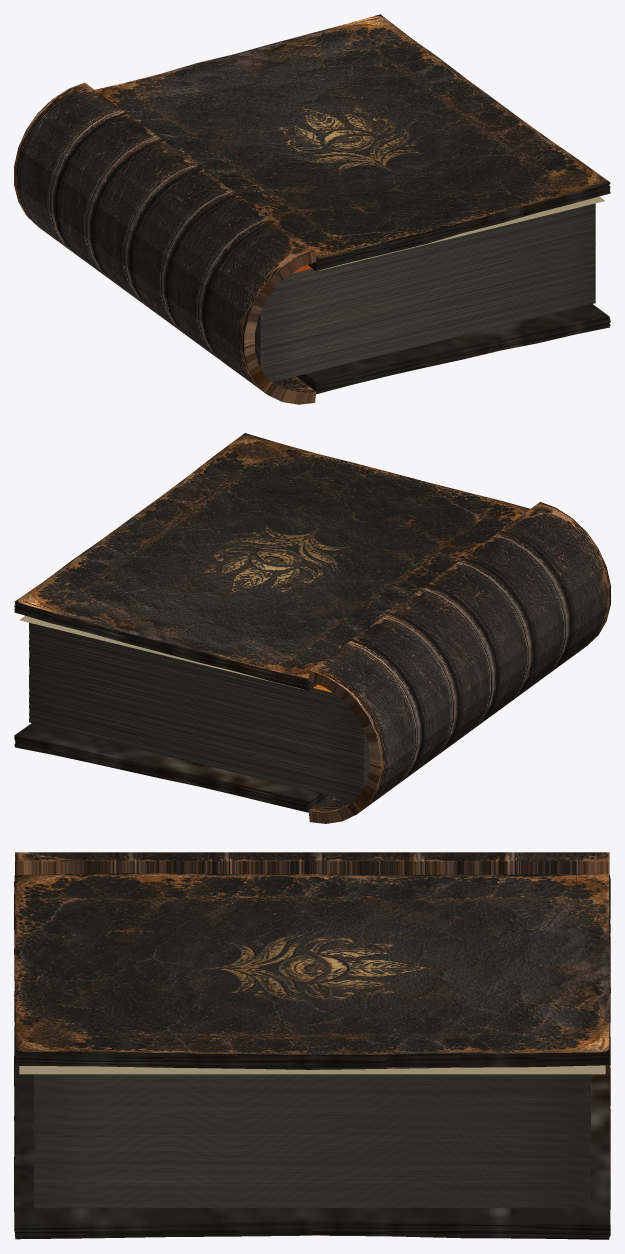
Rendered from book_open.glb.
3 renders of one model, top to bottom at view 1: azimuth 30°, elevation 25°; view 2: azimuth 150°, elevation 25°; view 3: azimuth 270°, elevation 25°, orthographic. The views are drawn at different scales.
Parts seen in each view (by area): view 1: Cover_Front, Spine, Pages, Cover_Back, Cover_Endpaper; view 2: Cover_Front, Spine, Pages, Cover_Back, Cover_Endpaper; view 3: Cover_Front, Pages, Cover_Back, Spine, Cover_Endpaper.
Part boxes in pixels (box(x1,y1,x2,y2)): Cover_Front: box(95, 14, 610, 270); Spine: box(14, 82, 316, 404); Pages: box(255, 203, 595, 381); Cover_Back: box(295, 304, 610, 394); Cover_Endpaper: box(318, 196, 604, 270); Cover_Front: box(14, 433, 529, 690); Spine: box(308, 502, 610, 823); Pages: box(29, 622, 369, 801); Cover_Back: box(14, 723, 328, 812); Cover_Endpaper: box(19, 616, 304, 689); Cover_Front: box(14, 873, 610, 1069); Pages: box(34, 1074, 590, 1207); Cover_Back: box(14, 1056, 610, 1239); Spine: box(15, 852, 609, 874); Cover_Endpaper: box(19, 1065, 605, 1074).
Size of the model in its own units: 0.3106 by 0.1229 by 0.3393.
Materials: 6 (5 with a texture image).
